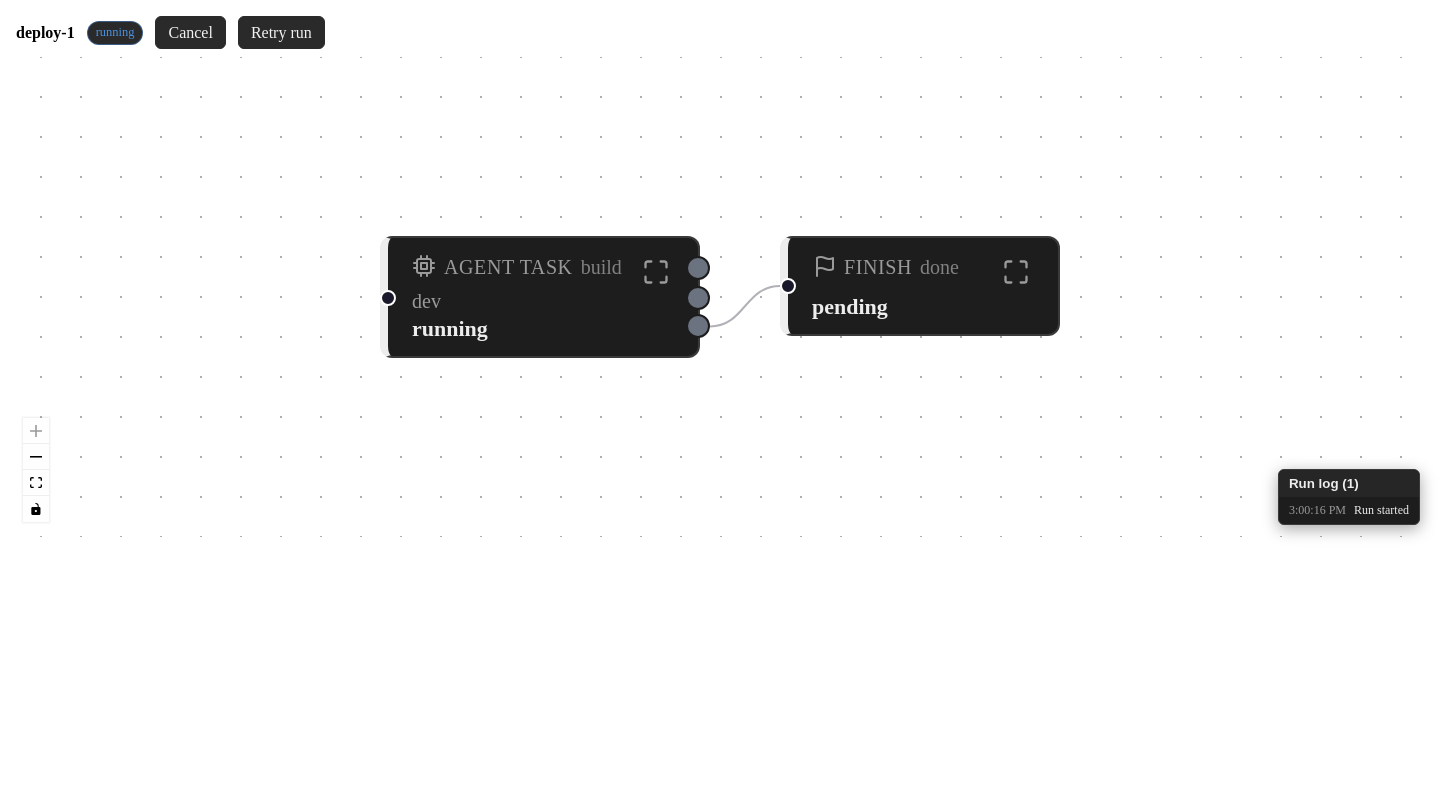
Scenario: RunInspector › shows the telemetry block for a node that has it
Expected: the text "deploy-1" is shown, [16,24,75,42]
Click the button named "Open node build".
click(656, 272)  # box [638,254,674,290]
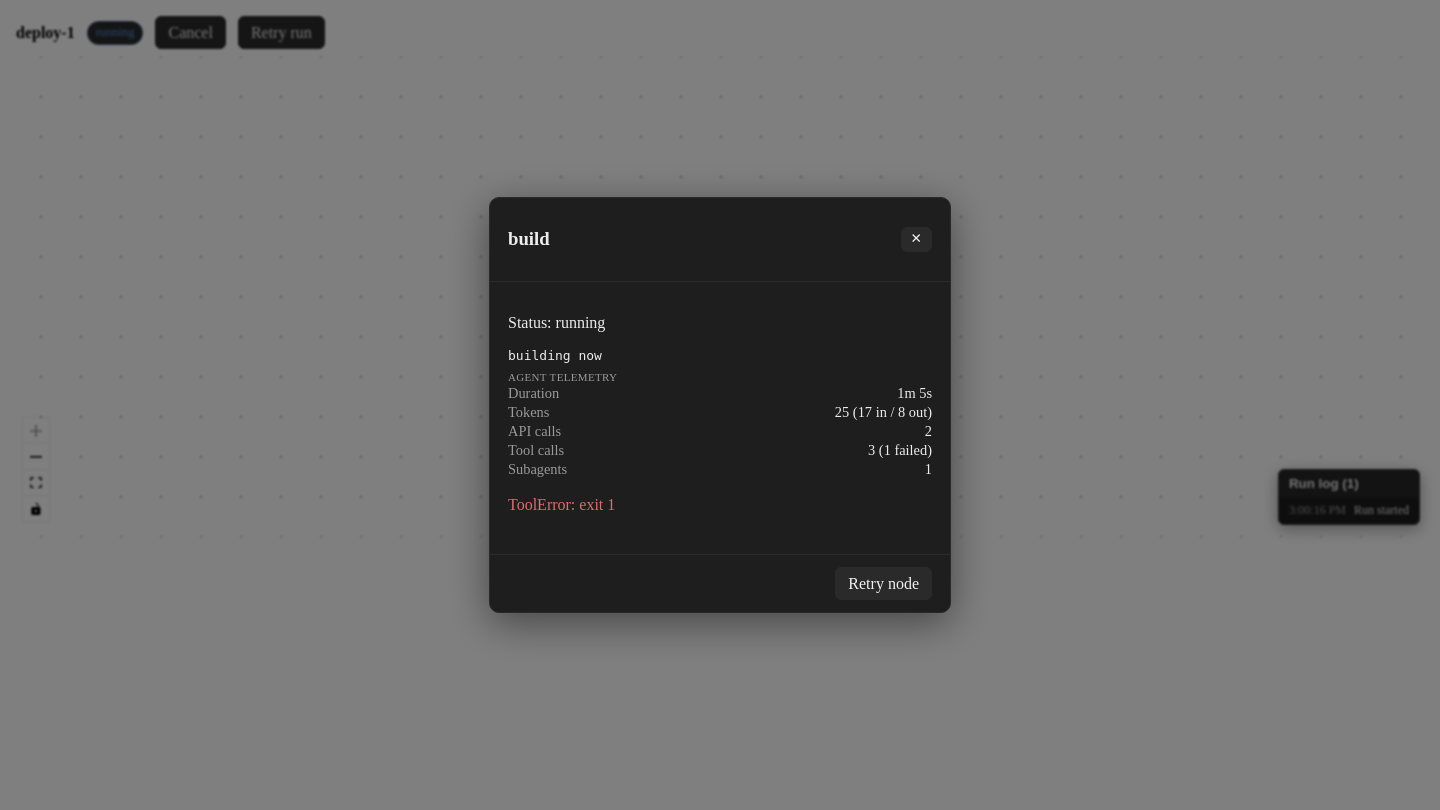
Expected: the text "Agent telemetry" is shown, [508,371,617,383]
Expected: the text "1m 5s" is shown, [897,385,932,402]
Expected: the text "25 (17 in / 8 out)" is shown, [835,404,932,421]
